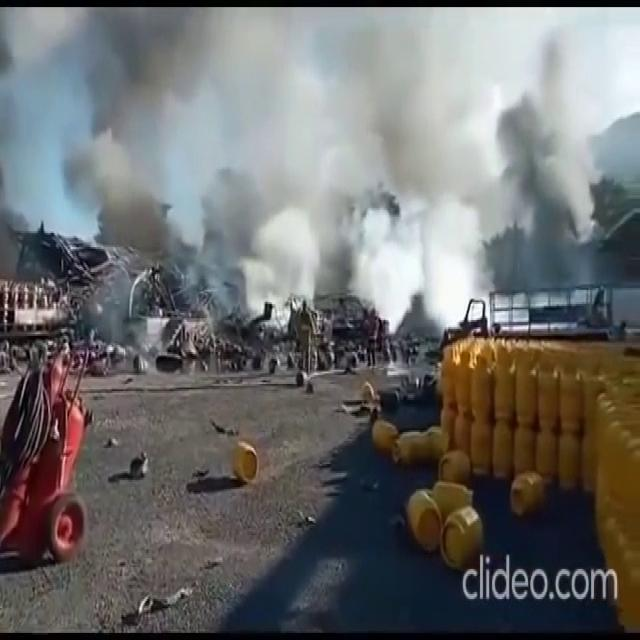Smoke: (226, 32, 598, 300), (40, 18, 193, 318)
